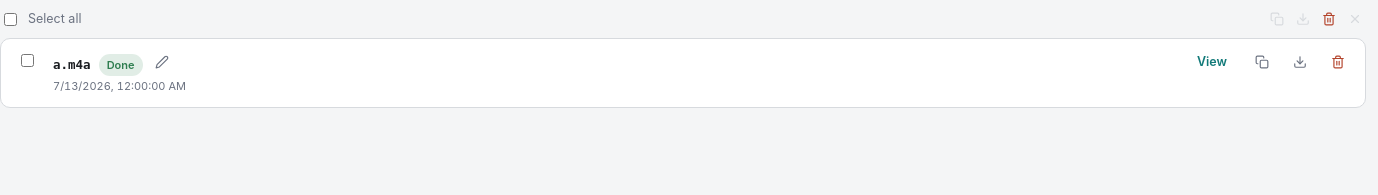
Scenario: HistoryView › lists entries and expands a transcript via View
The width and height of the screenshot is (1378, 195).
Expected: the text "a.m4a" is shown, [53,56,91,75]
Expected: the text "hello world" is not shown
Click the button "View" at (1212, 62), box [1189,51,1235,73]
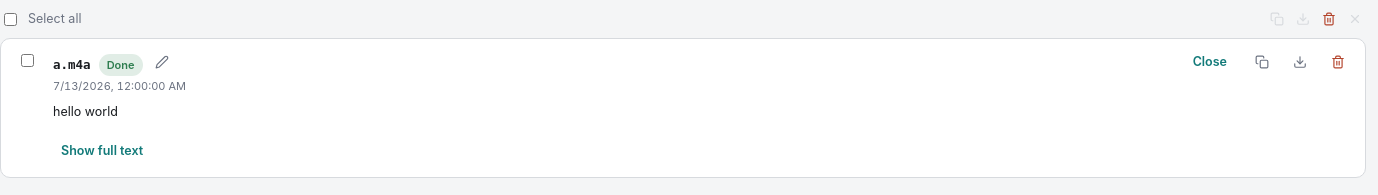
Now the text "hello world" is shown, box [53,104,118,119]
